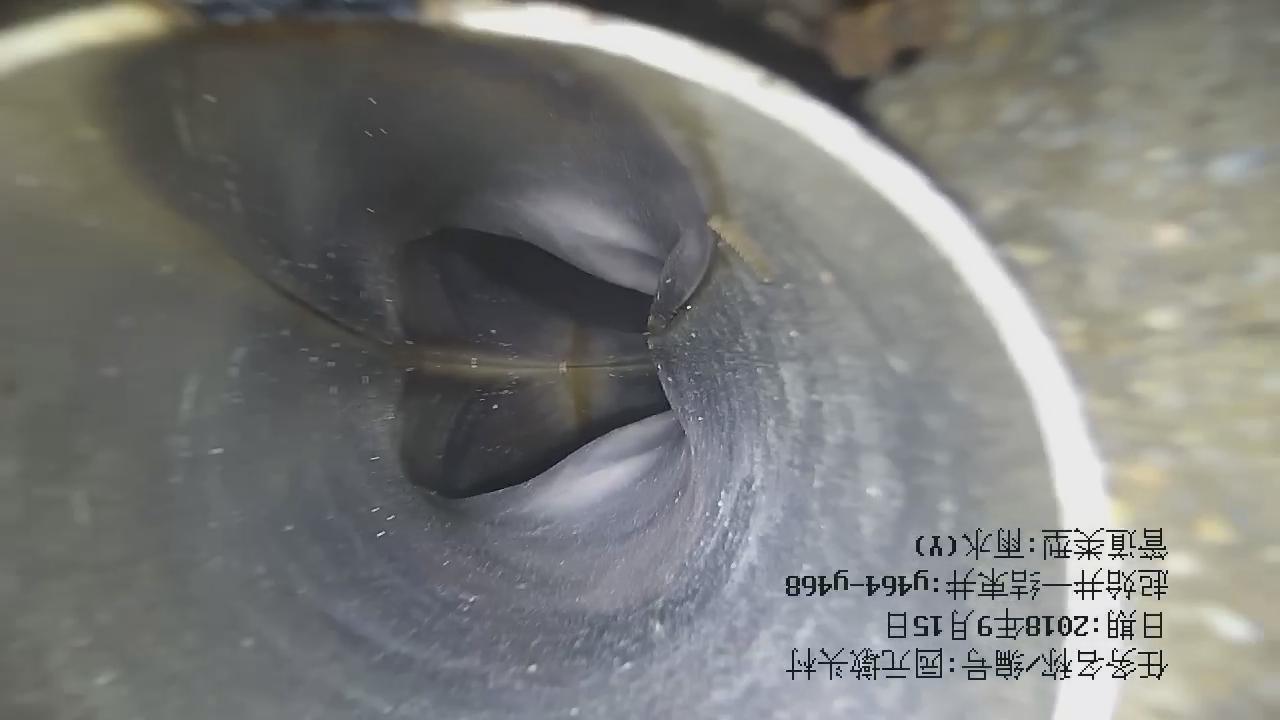BX: (372, 351, 730, 566)
